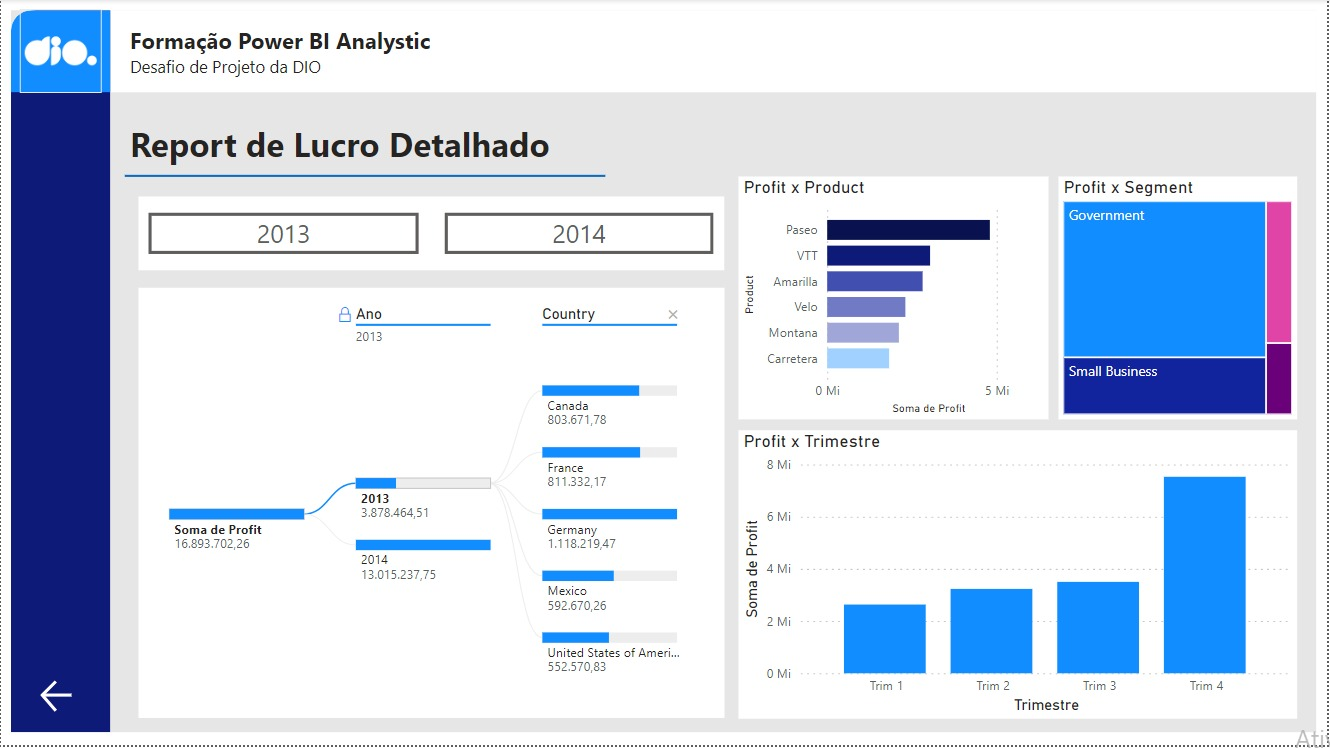

The dashboard page shown, as its layout file describes it:
{"tool":"powerbi","page":{"name":"Página 2","canvas":[1280,720],"ordinal":1},"visuals":[{"type":"shape","box":[133.1,190.7,565.4,71.4],"z":0,"group":"g1"},{"type":"shape","box":[9.6,11,1259.7,697.1],"z":0},{"type":"shape","box":[9.6,11,96.1,697.1],"z":1000},{"type":"actionButton","box":[142.7,205.8,260.7,39.8],"z":1000,"group":"g1"},{"type":"shape","box":[9.6,11,96.1,79.6],"z":2000},{"type":"actionButton","title":"2014","box":[428.1,205.8,259.3,39.8],"z":2000,"group":"g1"},{"type":"shape","box":[105.7,11,1163.6,79.6],"z":3000},{"type":"image","box":[17.8,9.6,79.6,81],"z":4000},{"type":"textbox","box":[119.4,20.6,374.6,60.4],"z":5000},{"type":"textbox","box":[119.4,113.9,426.8,57.6],"z":6000},{"type":"shape","box":[119.4,150.9,463.8,39.8],"z":7000},{"type":"columnChart","title":"Profit x Trimestre","fields":{"Y":["Sum(financials.Profit)"],"Category":["financials.Date.Variation.Hierarquia de datas.Trimestre"]},"box":[712.2,415.8,539.3,278.6],"z":9000},{"type":"treemap","title":"Profit x Segment","fields":{"Values":["Sum(financials.Profit)"],"Group":["financials.Segment"]},"box":[1020.9,171.5,230.5,234.6],"z":10000},{"type":"barChart","title":"Profit x Product","fields":{"Y":["Sum(financials.Profit)"],"Category":["financials.Product"]},"box":[712.2,171.5,299.1,234.6],"z":11000},{"type":"group","id":"g1","title":"Grupo Botoes","box":[133.1,190.7,565.4,71.4],"z":12000},{"type":"decompositionTreeVisual","fields":{"Analyze":["Sum(financials.Profit)"],"ExplainBy":["financials.Date.Variation.Hierarquia de datas.Ano","financials.Country"]},"box":[133,278.1,565.6,415.1],"z":12001},{"type":"actionButton","box":[33.6,652.9,43,40.3],"z":12002}]}

Visuals, with their boxes on the page's 1280x720 design canvas (x1, y1, x2, y2). These are canvas units, not pixel positions in the 1330x748 screenshot, which may show the page scaled, cropped or inside an application window:
shape: pyautogui.locateOnScreen(133, 191, 698, 262)
shape: pyautogui.locateOnScreen(10, 11, 1269, 708)
shape: pyautogui.locateOnScreen(10, 11, 106, 708)
actionButton: pyautogui.locateOnScreen(143, 206, 403, 246)
shape: pyautogui.locateOnScreen(10, 11, 106, 91)
"2014" actionButton: pyautogui.locateOnScreen(428, 206, 687, 246)
shape: pyautogui.locateOnScreen(106, 11, 1269, 91)
image: pyautogui.locateOnScreen(18, 10, 97, 91)
textbox: pyautogui.locateOnScreen(119, 21, 494, 81)
textbox: pyautogui.locateOnScreen(119, 114, 546, 172)
shape: pyautogui.locateOnScreen(119, 151, 583, 191)
"Profit x Trimestre" columnChart: pyautogui.locateOnScreen(712, 416, 1252, 694)
"Profit x Segment" treemap: pyautogui.locateOnScreen(1021, 172, 1251, 406)
"Profit x Product" barChart: pyautogui.locateOnScreen(712, 172, 1011, 406)
"Grupo Botoes" group: pyautogui.locateOnScreen(133, 191, 698, 262)
decompositionTreeVisual - Sum(financials.Profit) x financials.Date.Variation.Hierarquia de datas.Ano: pyautogui.locateOnScreen(133, 278, 699, 693)
actionButton: pyautogui.locateOnScreen(34, 653, 77, 693)
